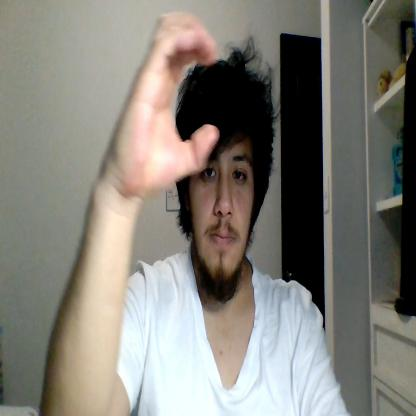C: (112, 11, 219, 192)
